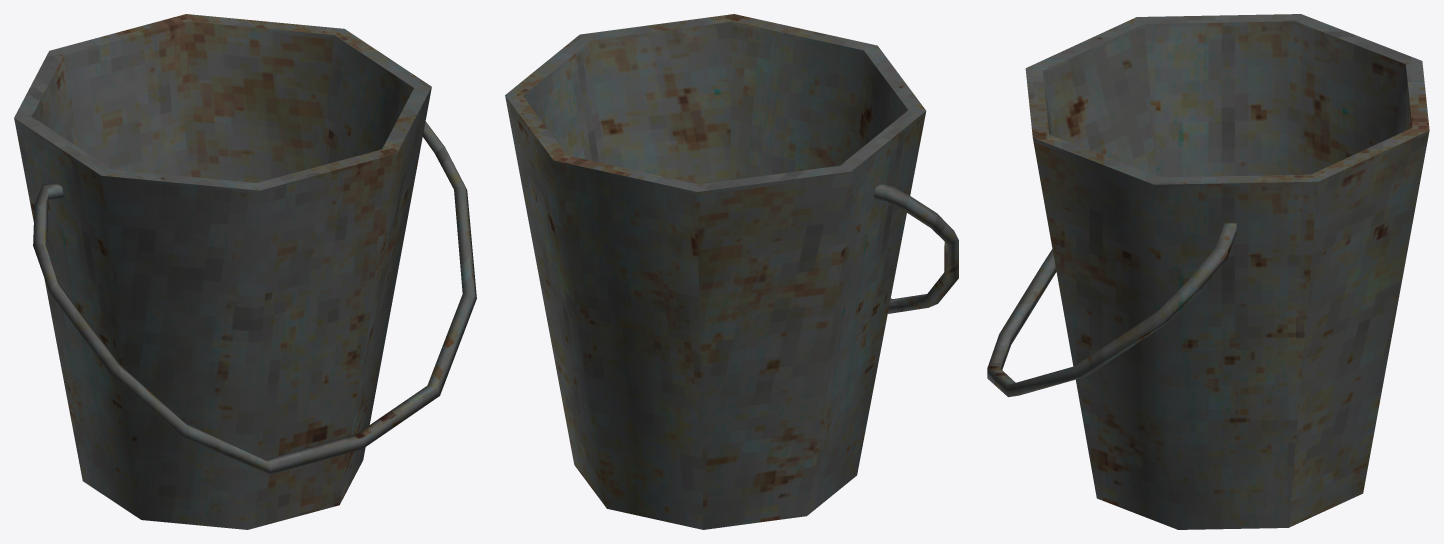
The model's file is _Bucket_1_LOD01.FBX.
3 renders of one model, left to right at view 1: azimuth 30°, elevation 25°; view 2: azimuth 150°, elevation 25°; view 3: azimuth 270°, elevation 25°, orthographic.
Visible parts, largest first — view 1: _Bucket_1_LOD01; view 2: _Bucket_1_LOD01; view 3: _Bucket_1_LOD01.
Part boxes in pixels (bbox=[...]): _Bucket_1_LOD01: bbox=[14, 14, 476, 529]; _Bucket_1_LOD01: bbox=[505, 14, 958, 529]; _Bucket_1_LOD01: bbox=[987, 14, 1429, 529].
Size of the model in its own units: 29.11 by 24.33 by 26.12.
Materials: 1 (1 with a texture image).
